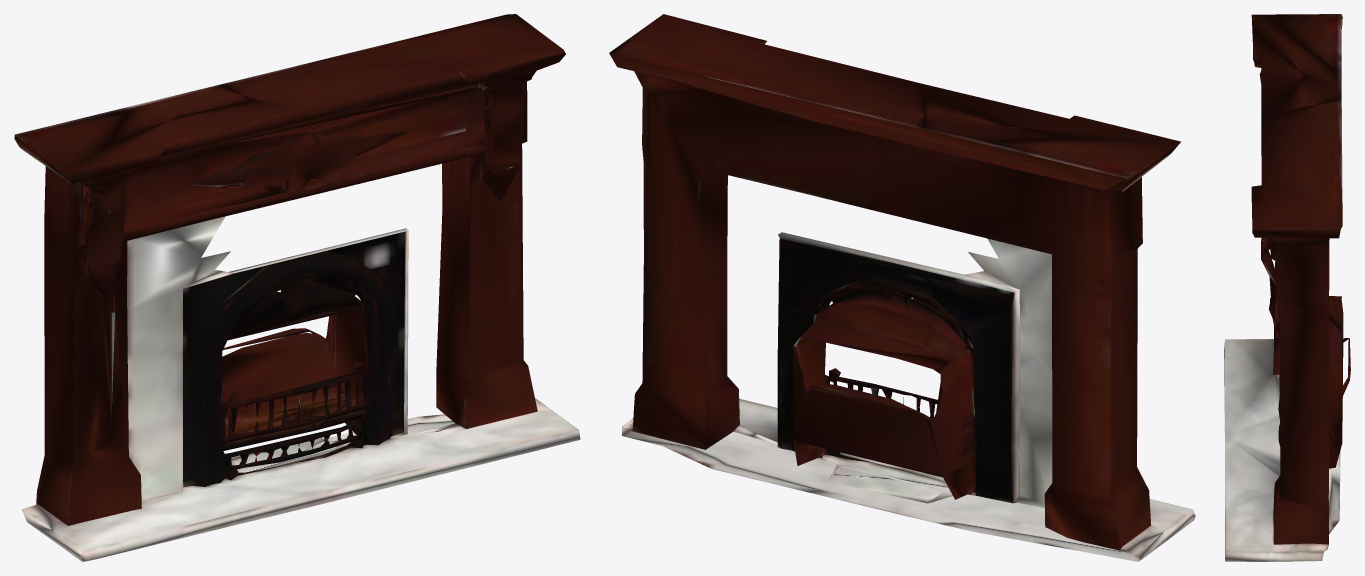
File: chimenea_club.movil.glb
The picture shows the model from 3 angles, left to right: view 1: azimuth 30°, elevation 25°; view 2: azimuth 150°, elevation 25°; view 3: azimuth 270°, elevation 25°; orthographic projection. The views are drawn at different scales.
Visible parts, largest first — view 1: geometry_0; view 2: geometry_0; view 3: geometry_0.
Boxes of the visible parts, x1,y1,x2,y2 form: geometry_0: (14,14,580,561); geometry_0: (609,14,1195,561); geometry_0: (1224,14,1350,561).
Bounding box in the file's own units: 1.8 × 1.3 × 0.4464.
1 material, 1 textured.
